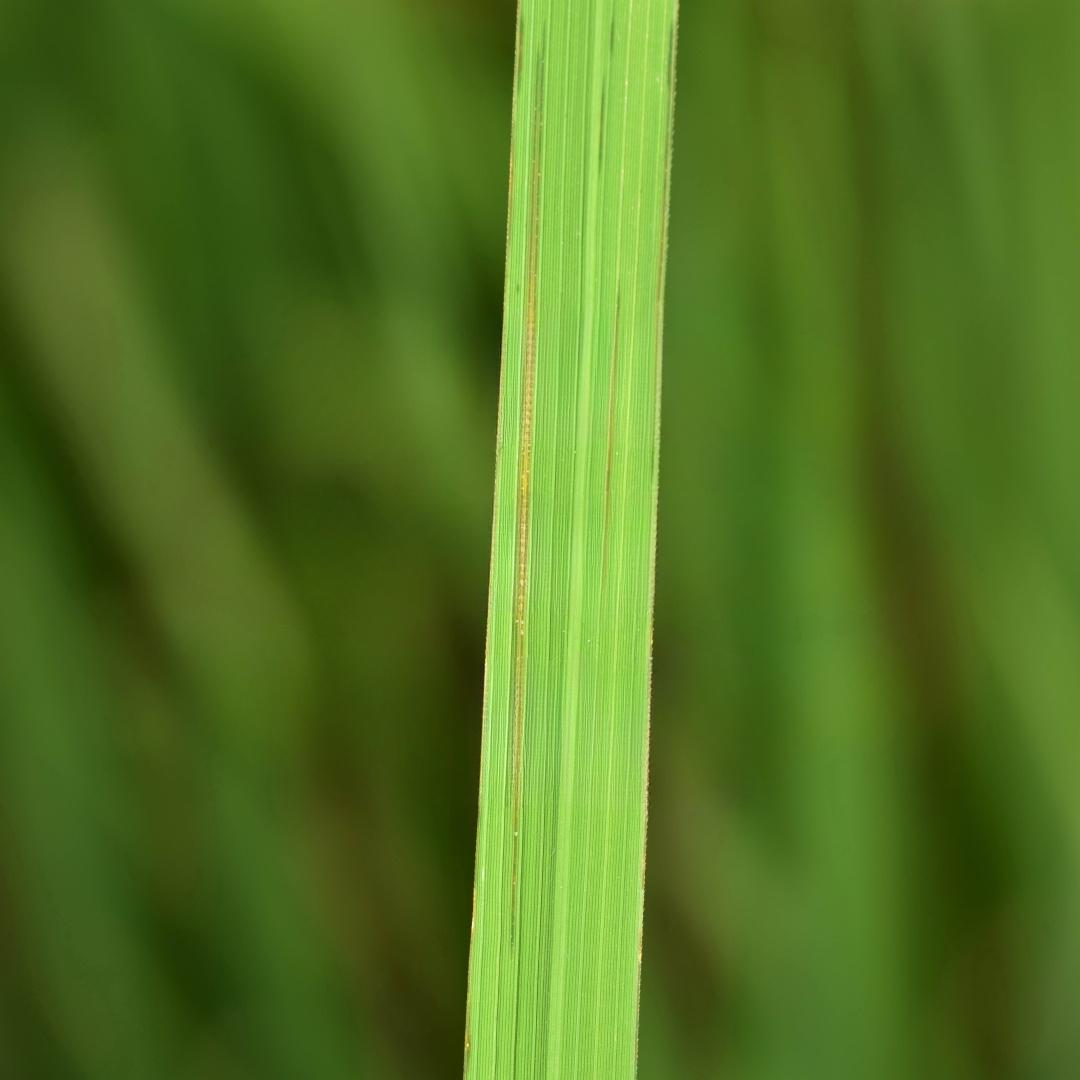BLS: (464, 1, 520, 1079), (515, 21, 545, 911)
LEAF: (463, 0, 677, 1079)
